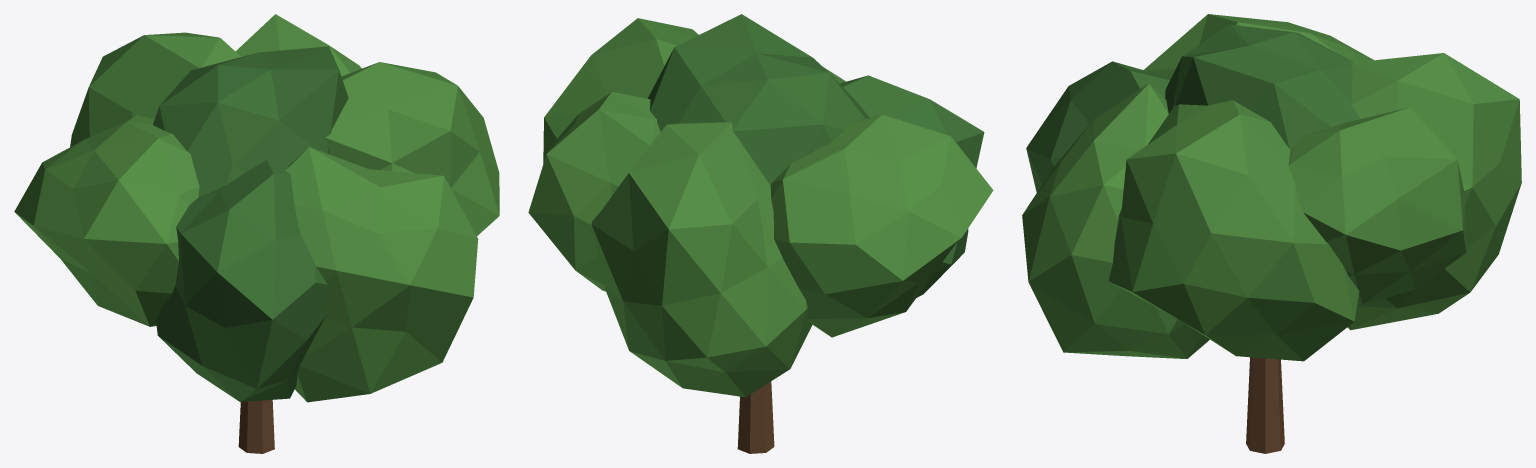
Rendered from oak-big.glb.
3 renders of one model, left to right at view 1: azimuth 30°, elevation 25°; view 2: azimuth 150°, elevation 25°; view 3: azimuth 270°, elevation 25°, orthographic. The views are drawn at different scales.
Parts seen in each view (by area): view 1: tree; view 2: tree; view 3: tree.
Boxes of the visible parts, x1=… form: tree: x1=14, y1=14, x2=499, y2=453; tree: x1=528, y1=14, x2=993, y2=453; tree: x1=1022, y1=14, x2=1521, y2=453.
Size of the model in its own units: 18.45 by 16.48 by 18.07.
